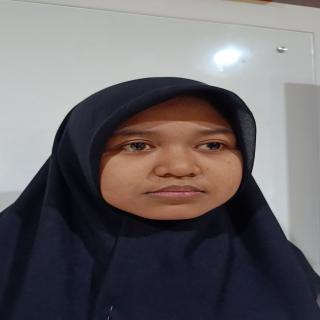Netral: (94, 87, 253, 226)
